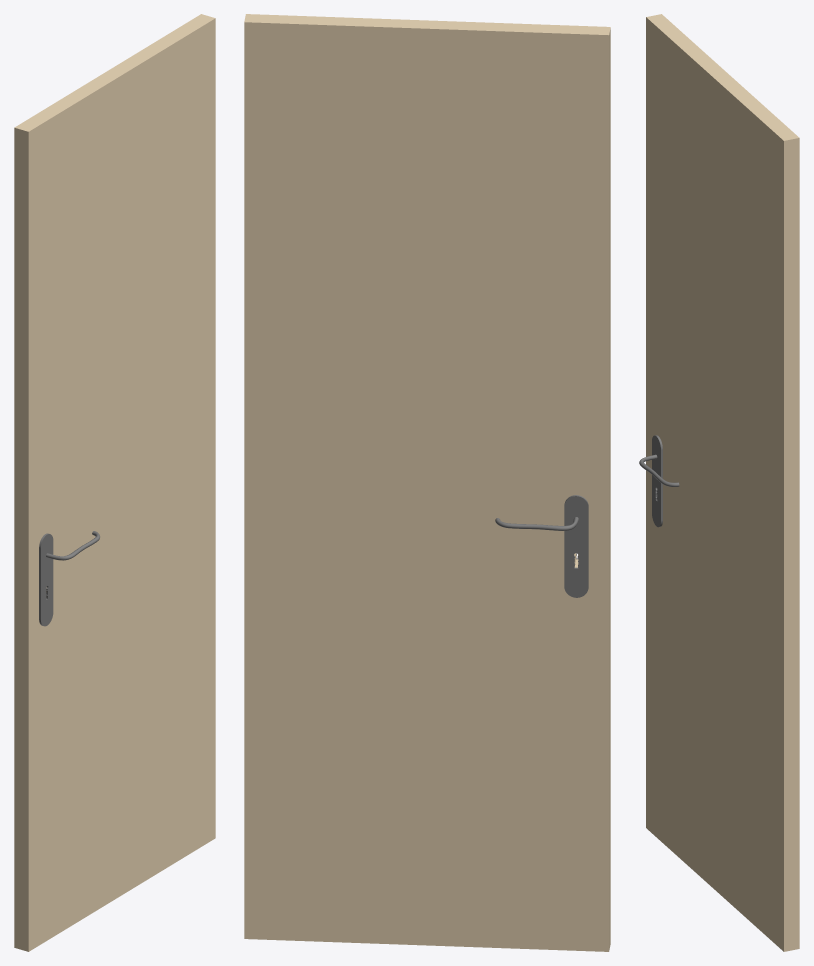
The model's file is Leuchtturm_OG1_tuer2_schluesselloch.fbx.
3 renders of one model, left to right at view 1: azimuth 30°, elevation 25°; view 2: azimuth 150°, elevation 25°; view 3: azimuth 270°, elevation 25°, orthographic. The views are drawn at different scales.
Visible parts, largest first — view 1: Holz, innen_2, Metall_4; view 2: Holz, innen_2, Metall_4; view 3: Holz, innen_2, Metall_4.
Part boxes in pixels (left/top/right/bottom): Holz, innen_2: left=14, top=14, right=215, bottom=951; Metall_4: left=39, top=531, right=99, bottom=626; Holz, innen_2: left=244, top=14, right=610, bottom=951; Metall_4: left=495, top=495, right=588, bottom=597; Holz, innen_2: left=646, top=14, right=799, bottom=951; Metall_4: left=639, top=435, right=679, bottom=527.
Bounding box in the file's own units: 0.6957 × 2.07 × 0.371.
